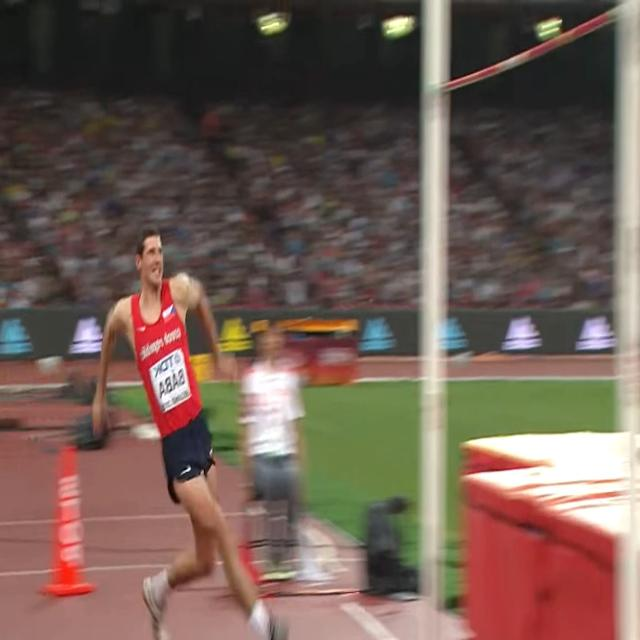run: (90, 223, 289, 640)
